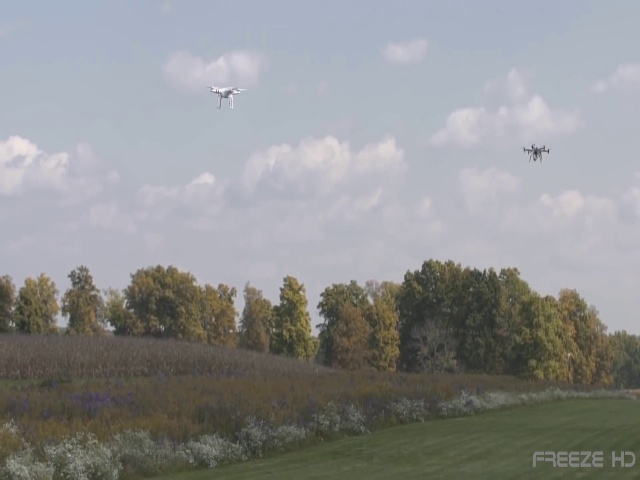drone: (204, 77, 254, 113), (518, 141, 554, 163)
